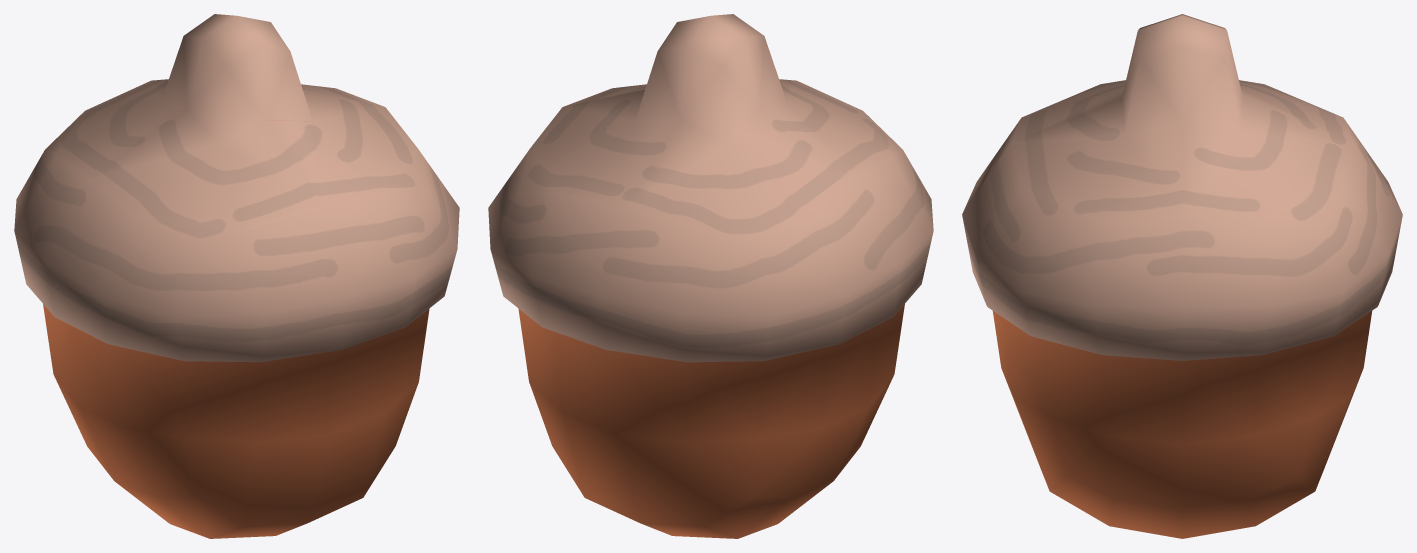
Rendered from HealItem.obj.
3 views of the same model, side by side, from view 1: azimuth 30°, elevation 25°; view 2: azimuth 150°, elevation 25°; view 3: azimuth 270°, elevation 25° (orthographic).
Parts seen in each view (by area): view 1: Cube; view 2: Cube; view 3: Cube.
Boxes of the visible parts, <box> form: Cube: <box>14,14,459,538</box>; Cube: <box>488,14,933,538</box>; Cube: <box>962,14,1402,538</box>.
Bounding box in the file's own units: 0.795 × 1 × 0.795.
1 material, 1 textured.
